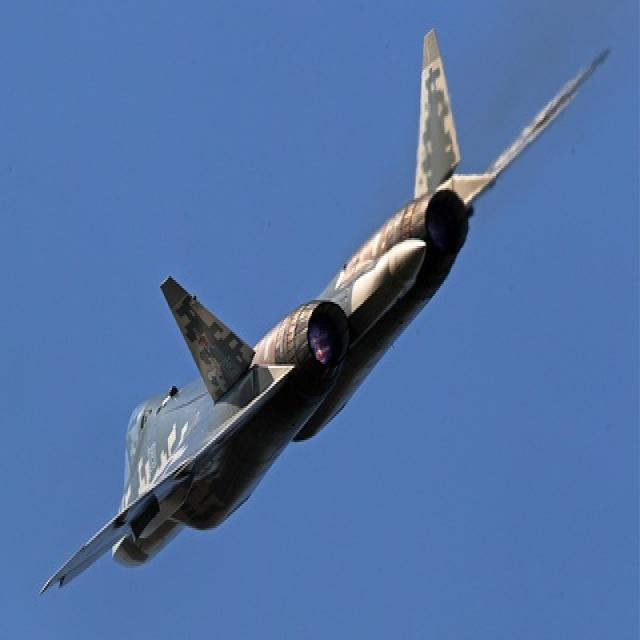MIL_Plane: (37, 24, 612, 596)
